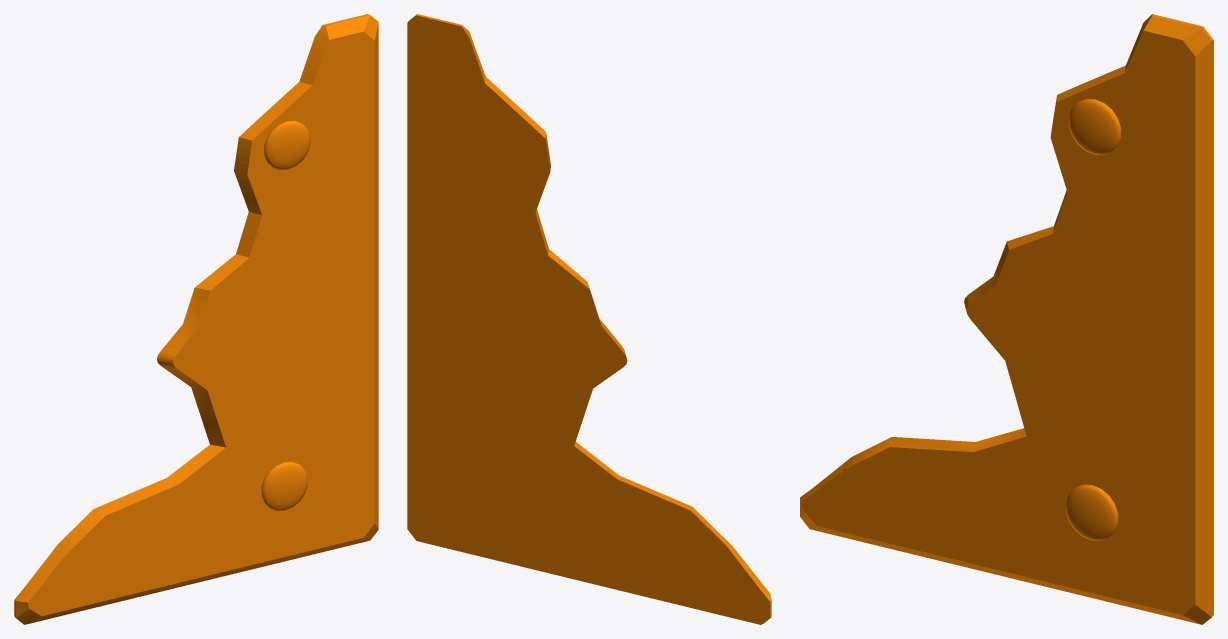
The model's file is SM_Stele_03.fbx.
3 views of the same model, side by side, from view 1: azimuth 30°, elevation 25°; view 2: azimuth 150°, elevation 25°; view 3: azimuth 330°, elevation 25° (orthographic). The views are drawn at different scales.
Visible parts, largest first — view 1: Stele_03_l, Rond_07_l, Rond_08_l; view 2: Stele_03_l; view 3: Stele_03_l, Rond_07_l, Rond_08_l.
Part boxes in pixels (x1,y1,x2,y2): Stele_03_l: (14,14,378,624); Rond_07_l: (261,461,307,511); Rond_08_l: (264,120,310,170); Stele_03_l: (407,14,771,624); Stele_03_l: (800,14,1213,624); Rond_07_l: (1065,484,1118,540); Rond_08_l: (1068,99,1121,155).
Bounding box in the file's own units: 260 × 360 × 13.
